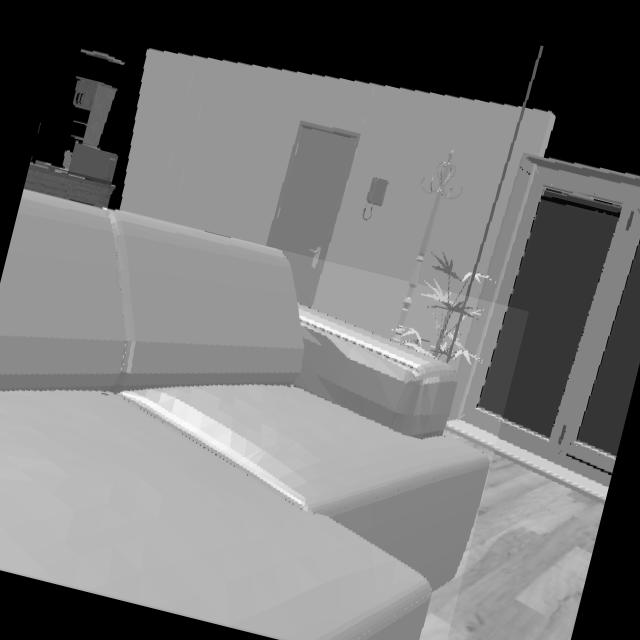cabinet: (69, 78, 116, 147)
sofa: (0, 189, 488, 640)
table: (23, 163, 116, 208)
